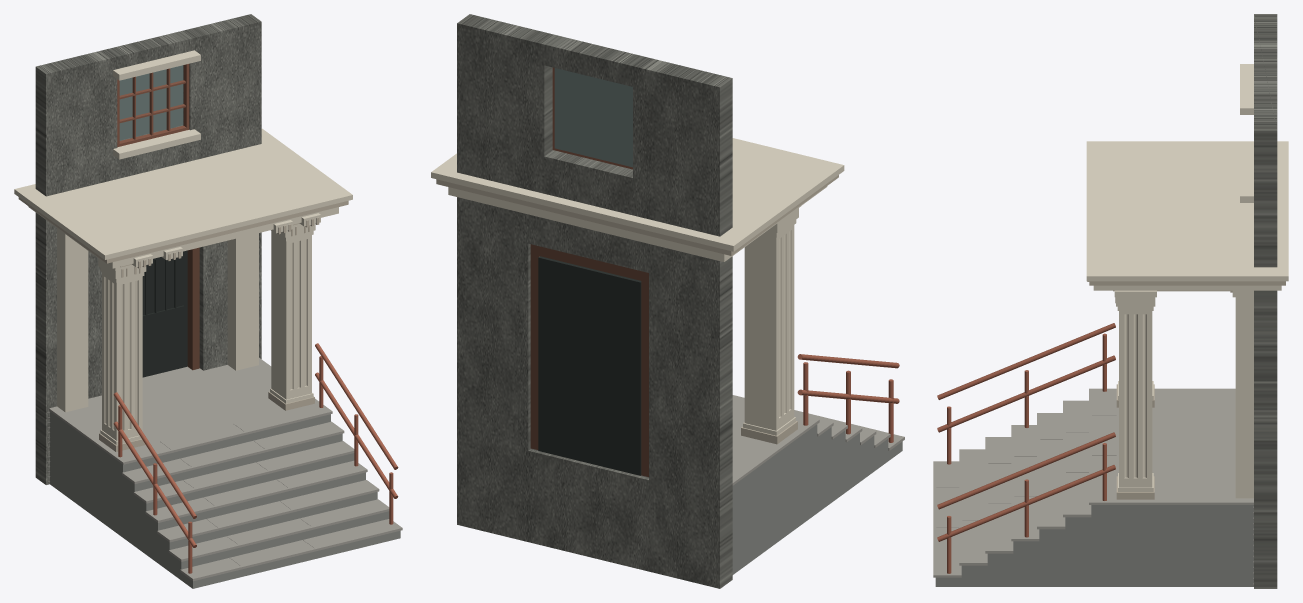
Rendered from yangpu-fangsan-special-number-entrance-raw.glb.
The picture shows the model from 3 angles, left to right: view 1: azimuth 30°, elevation 25°; view 2: azimuth 150°, elevation 25°; view 3: azimuth 270°, elevation 25°; orthographic projection. The views are drawn at different scales.
Visible parts, largest first — view 1: 纺三小区特号住宅门廊与石阶; view 2: 纺三小区特号住宅门廊与石阶; view 3: 纺三小区特号住宅门廊与石阶.
Part boxes in pixels (x1,y1,x2,y2): 纺三小区特号住宅门廊与石阶: (14, 14, 402, 588); 纺三小区特号住宅门廊与石阶: (431, 14, 904, 588); 纺三小区特号住宅门廊与石阶: (933, 14, 1288, 588).
Bounding box in the file's own units: 3.65 × 5.78 × 4.07.
15 materials, 1 textured.
